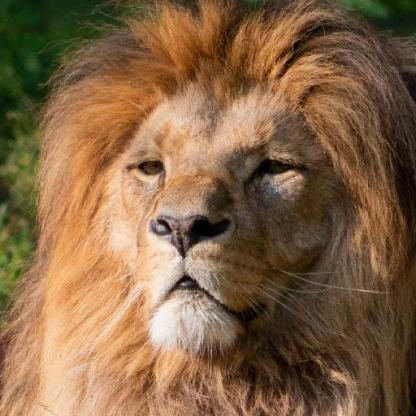lion: (67, 62, 362, 373)
